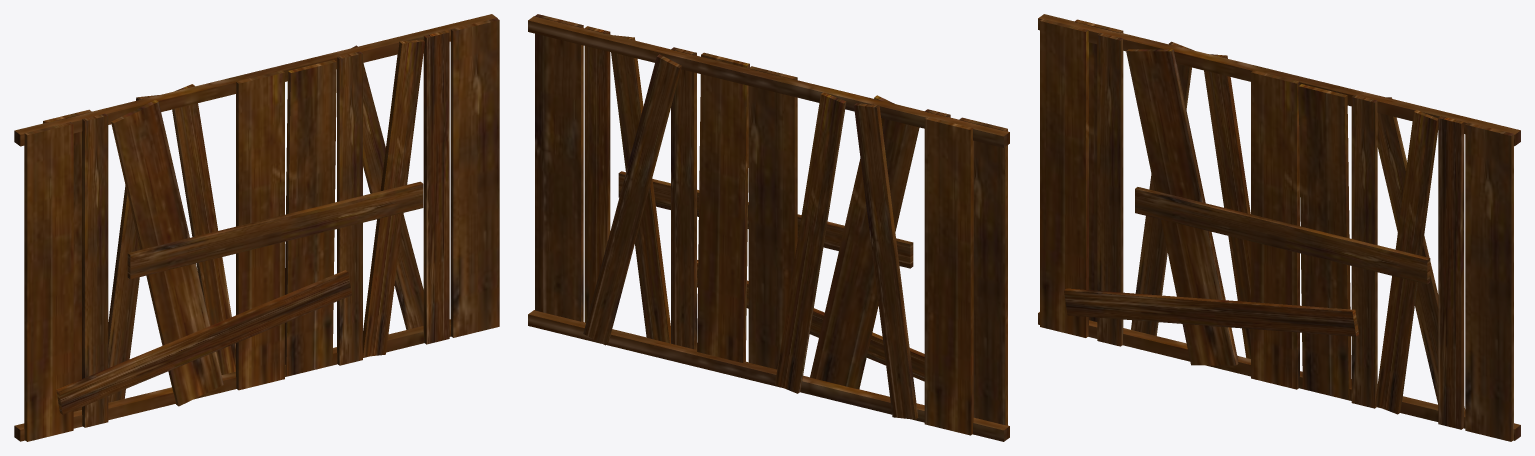
The model's file is shackWall2.fbx.
The picture shows the model from 3 angles, left to right: view 1: azimuth 30°, elevation 25°; view 2: azimuth 150°, elevation 25°; view 3: azimuth 330°, elevation 25°; orthographic projection.
Parts seen in each view (by area): view 1: ShackWall1; view 2: ShackWall1; view 3: ShackWall1.
Boxes of the visible parts, box(x1,y1,x2,y2) form: ShackWall1: box(14, 14, 499, 441); ShackWall1: box(528, 14, 1009, 441); ShackWall1: box(1038, 14, 1520, 441).
Bounding box in the file's own units: 408 × 253 × 23.15.
Materials: 1 (1 with a texture image).
